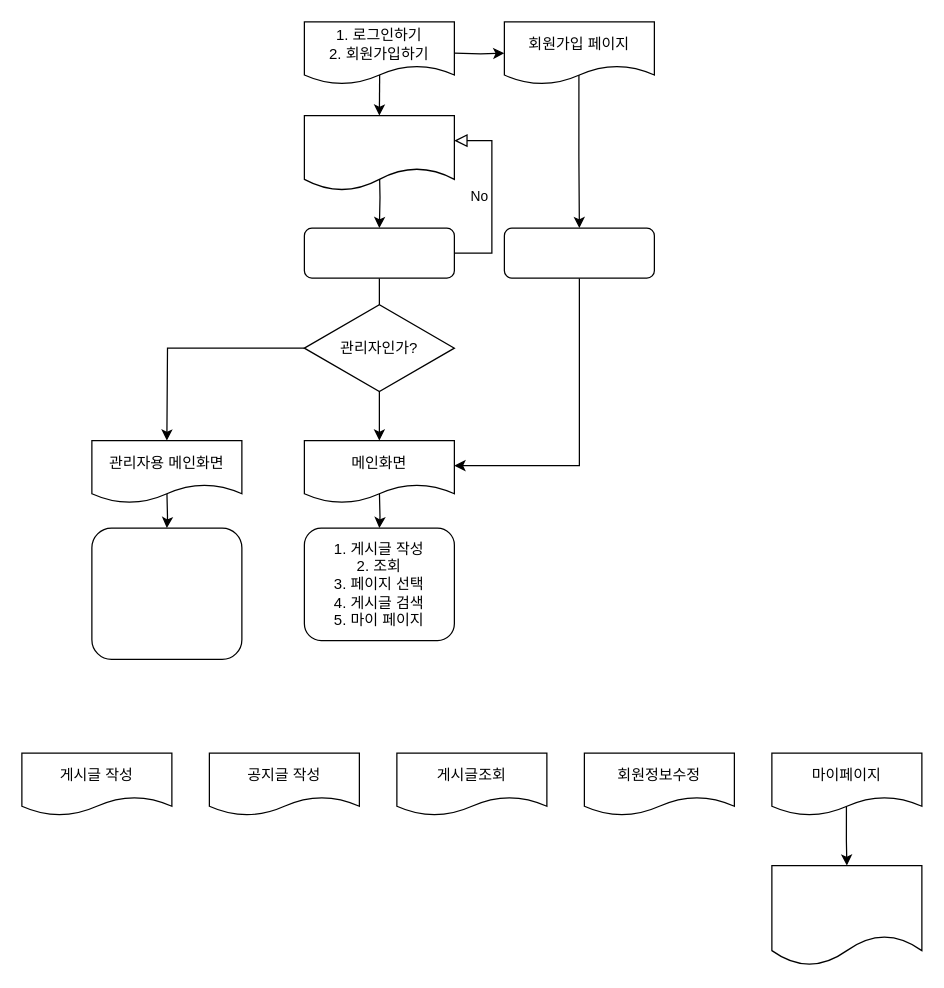
Image size: 944x988. Some labels were removed from this diagram. Each missing label, with the centre of its shape:
1. 게시글 작성 2. 조회 3. 페이지 선택 4. 게시글 검색 5. 공지글 작성 6. 회원정보 수정: [166,593]
1. 작성글 조회 2. 작성댓글 조회 내정보수정: [846,915]
DB 회원정보 조회: [378,252]
로그인 화면에서 계정 정보를 입력: [378,152]
회원 가입 및 자동로그인: [578,252]
